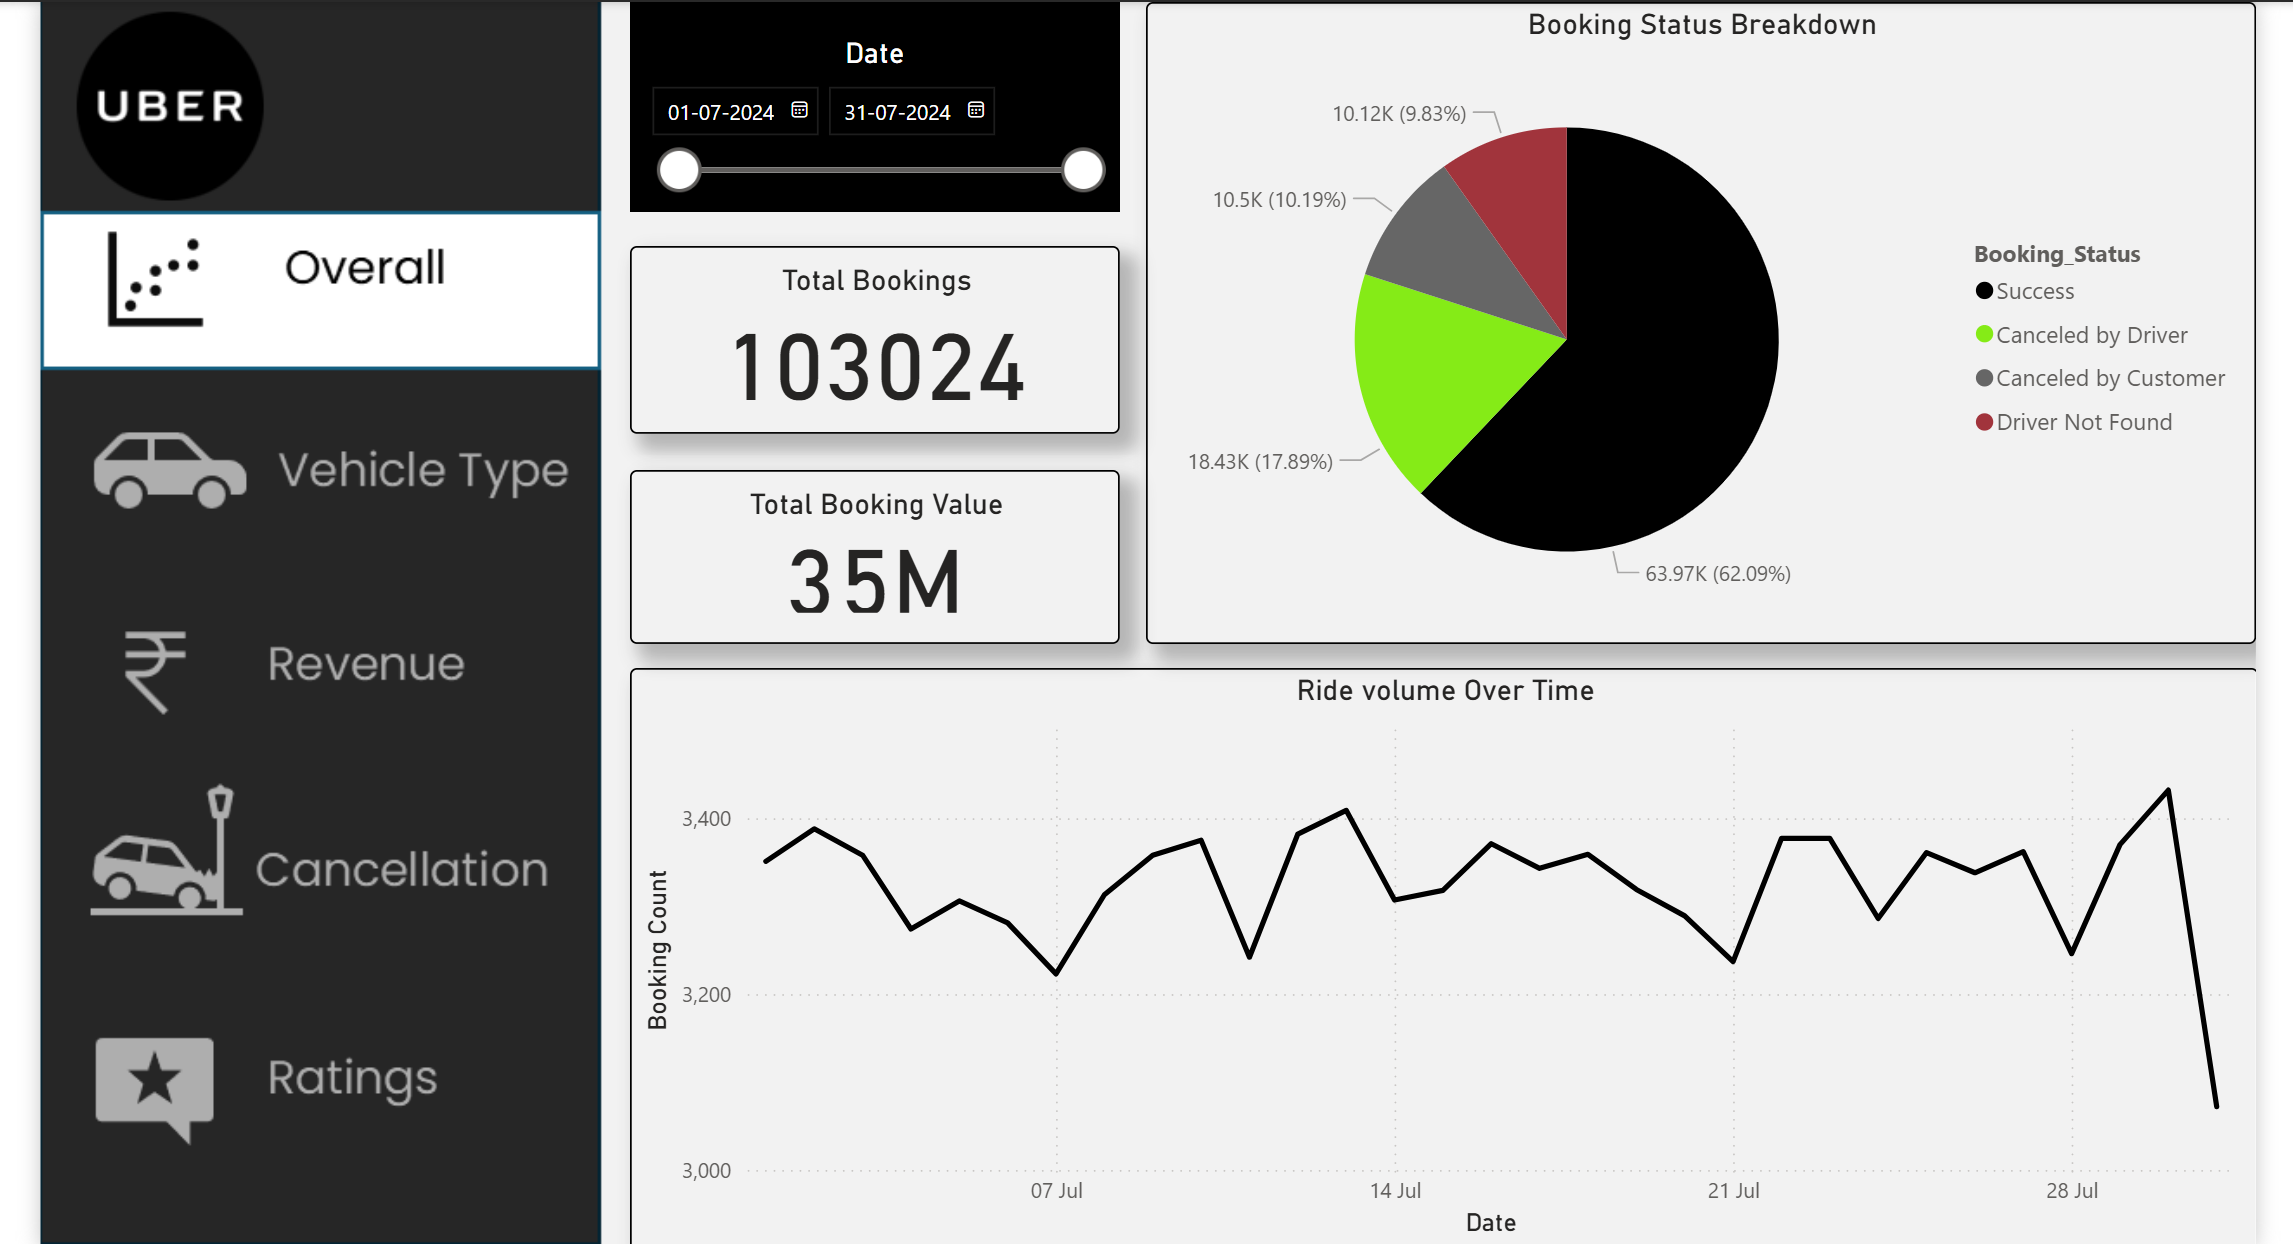

Layout of this report page (visuals, bound fields, positions):
{"tool":"powerbi","page":{"name":"Overall","canvas":[1280,720],"ordinal":0},"visuals":[{"type":"actionButton","box":[0,233.5,323.6,92.5],"z":0},{"type":"actionButton","box":[0,325.9,323.6,91.3],"z":1000},{"type":"actionButton","box":[0,446.1,323.6,94.8],"z":2000},{"type":"actionButton","box":[0,588.3,323.6,91.3],"z":3000},{"type":"actionButton","box":[0,121.3,323.6,92.5],"z":4000},{"type":"lineChart","title":"Ride volume Over Time","fields":{"Category":["July.Date"],"Y":["CountNonNull(July.Booking_ID)"]},"box":[340.4,385,940.9,336.6],"z":5000},{"type":"pieChart","title":"Booking Status Breakdown","fields":{"Category":["July.Booking_Status"],"Y":["CountNonNull(July.Booking_Status)"]},"box":[638.7,0,641.3,371],"z":6000},{"type":"slicer","title":"Date","fields":{"Values":["July.Date"]},"box":[340.4,0,283,121.1],"z":7000},{"type":"card","title":"Total Bookings","fields":{"Values":["CountNonNull(July.Booking_ID)"]},"box":[340.5,140.8,283.2,108.3],"z":8000},{"type":"card","title":"Total Booking Value","fields":{"Values":["Sum(July.Booking_Value)"]},"box":[340.4,270.3,283,100.7],"z":9000}]}

Visuals, with their boxes on the page's 1280x720 design canvas (x1, y1, x2, y2). These are canvas units, not pixel positions in the 2293x1244 screenshot, which may show the page scaled, cropped or inside an application window:
actionButton: [0,234,324,326]
actionButton: [0,326,324,417]
actionButton: [0,446,324,541]
actionButton: [0,588,324,680]
actionButton: [0,121,324,214]
"Ride volume Over Time" lineChart: [340,385,1281,722]
"Booking Status Breakdown" pieChart: [639,0,1280,371]
"Date" slicer: [340,0,623,121]
"Total Bookings" card: [340,141,624,249]
"Total Booking Value" card: [340,270,623,371]
